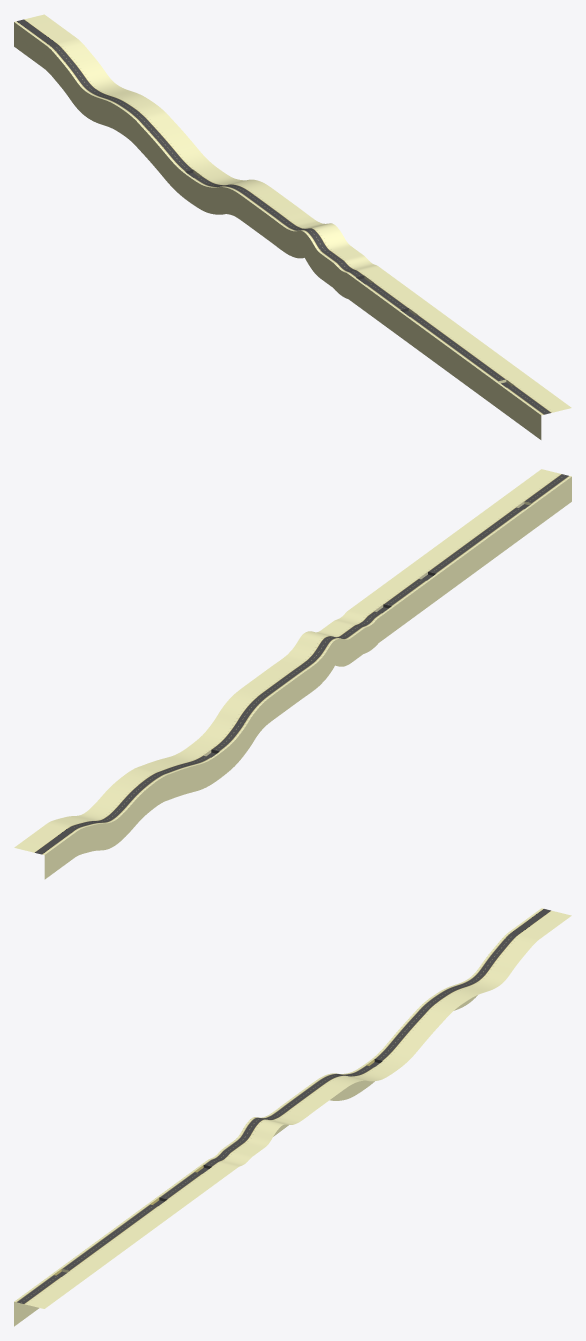
File: track 4.fbx
The picture shows the model from 3 angles, top to bottom: view 1: azimuth 30°, elevation 25°; view 2: azimuth 150°, elevation 25°; view 3: azimuth 330°, elevation 25°; orthographic projection.
Parts seen in each view (by area): view 1: Cube.003, Cube.004; view 2: Cube.003, Cube.004; view 3: Cube.003, Cube.004.
Part boxes in pixels (<box>): Cube.003: <box>14,14,571,439</box>; Cube.004: <box>16,19,551,414</box>; Cube.003: <box>14,469,571,879</box>; Cube.004: <box>34,474,569,854</box>; Cube.003: <box>14,908,571,1326</box>; Cube.004: <box>16,908,551,1304</box>.
Size of the model in its own units: 1614 by 2731 by 48335.
Materials: 1 (1 with a texture image).
